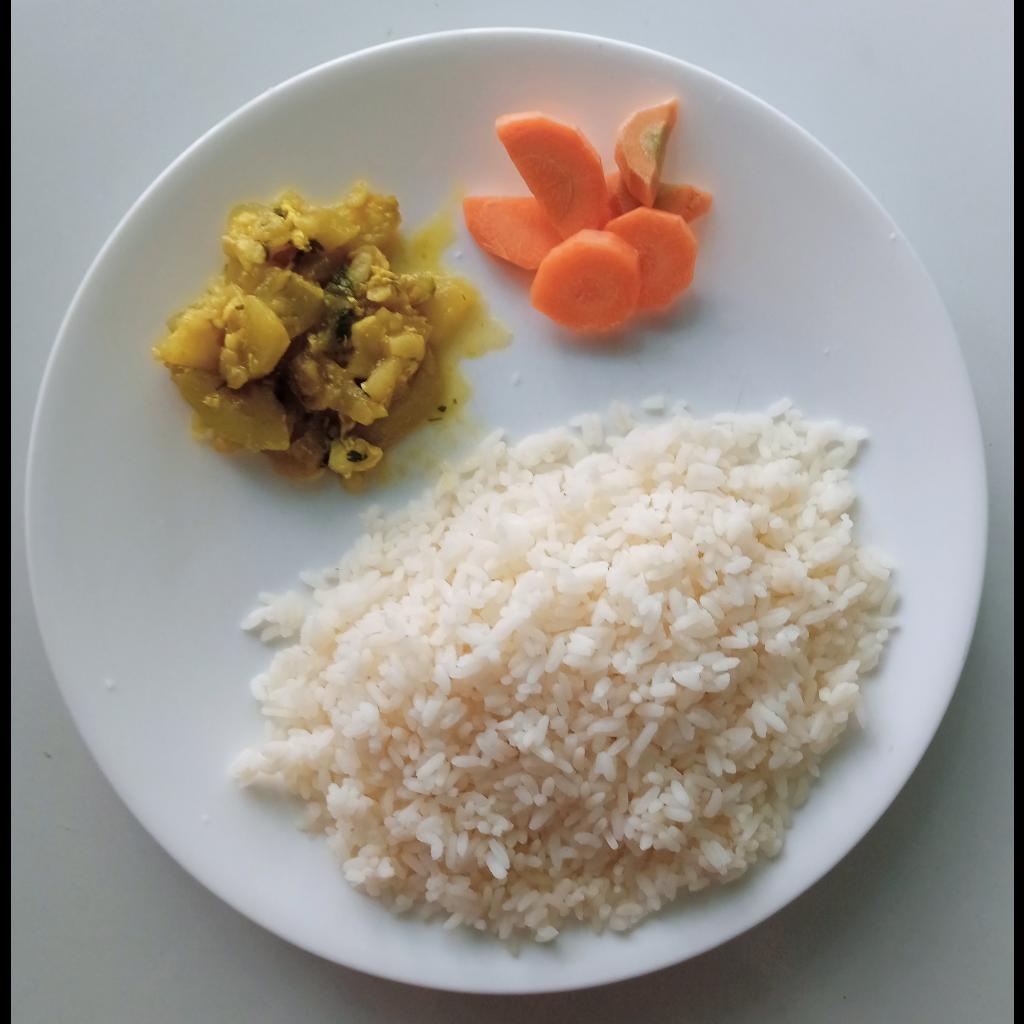carrot: (460, 97, 713, 334)
lau: (157, 178, 468, 492)
rice: (237, 398, 899, 948)
